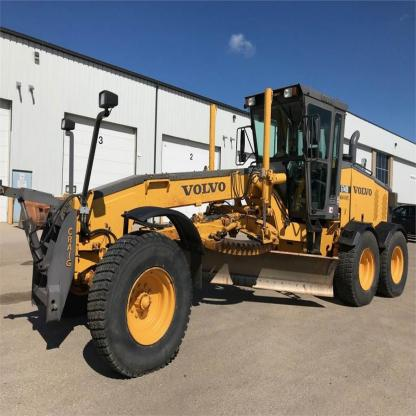bull_dozer/loader/grader: (35, 75, 409, 378)
